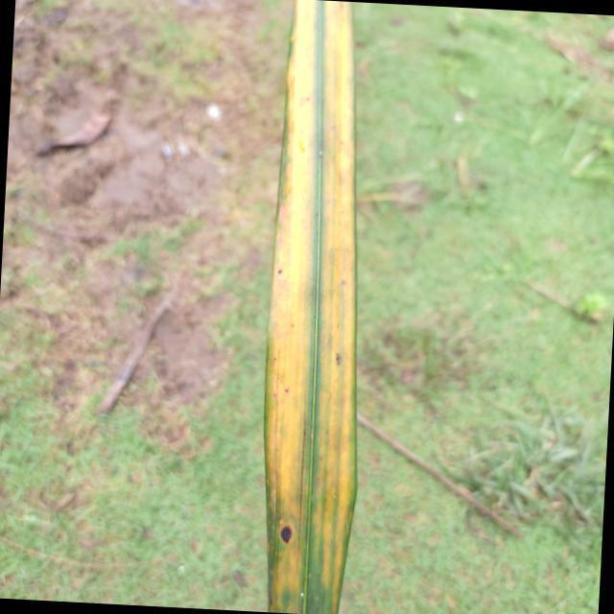Megnesium: (264, 0, 361, 614)
